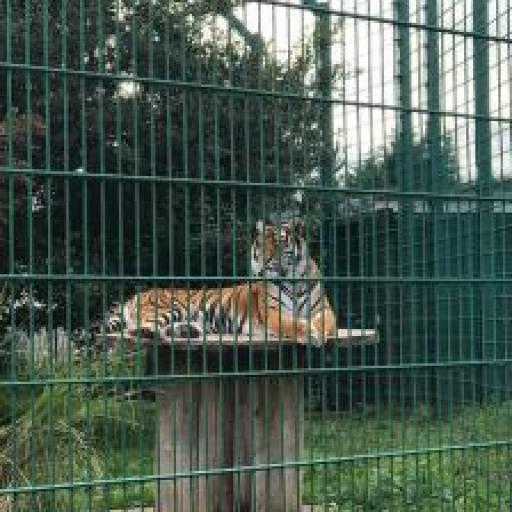Tiger: (52, 103, 436, 462)
